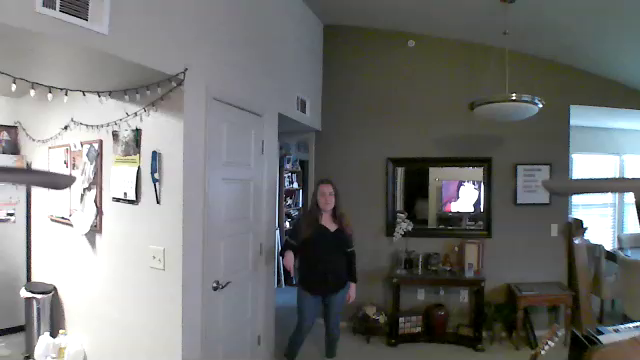down: (278, 246, 301, 284)
